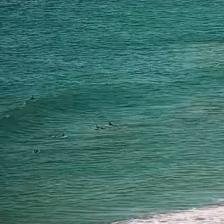surfer: (108, 121, 118, 127), (93, 125, 104, 130), (27, 96, 37, 101), (60, 133, 66, 138), (33, 149, 39, 153)
